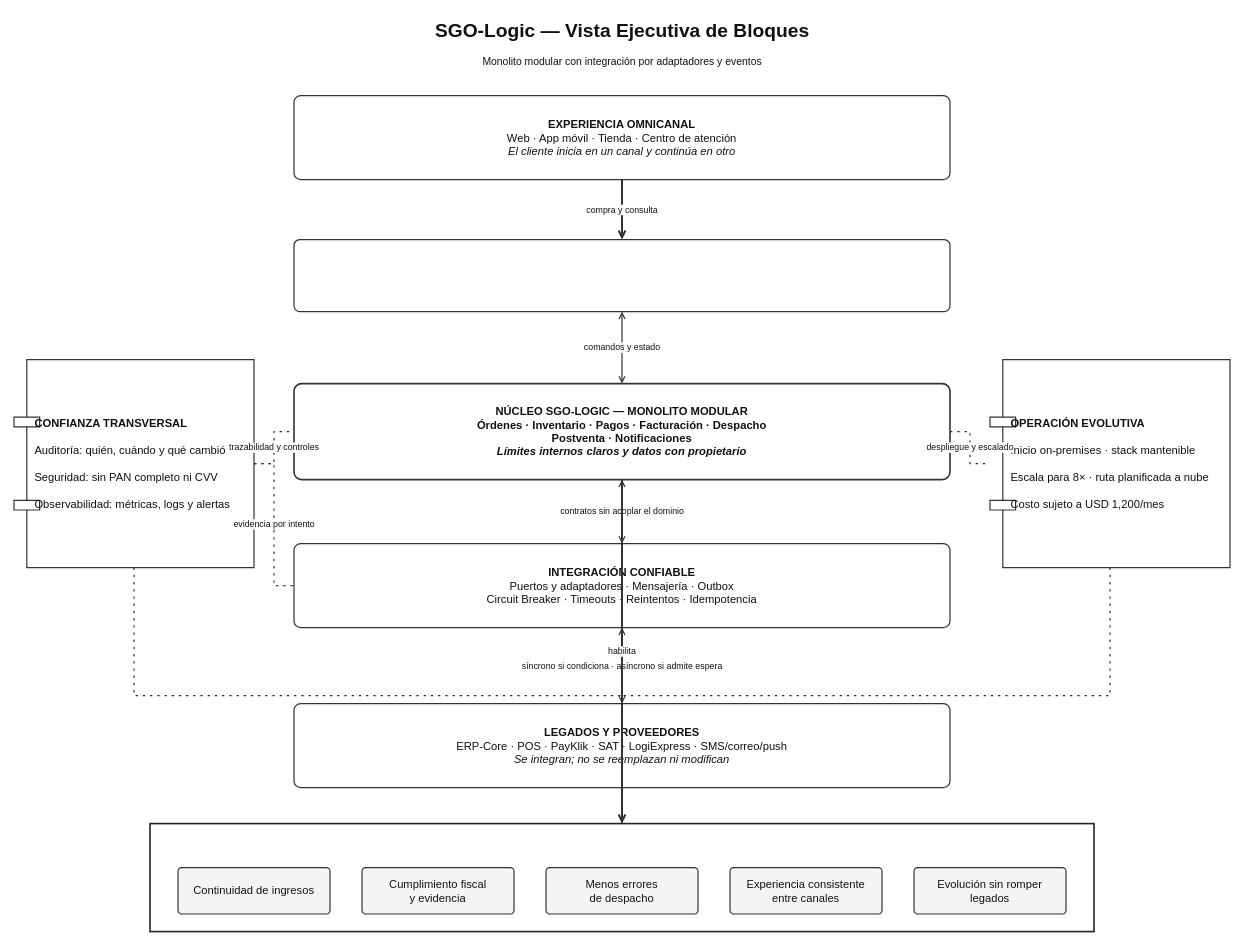
The diagram is 1245 pixels wide and 946 high, and some of its shapes have lost their labels. The box of each missing label's shape, as (x1, y1, x2, y2) in pixels:
ENTRADA Y CONTINUIDAD Identidad de cliente · API omnicanal · Carrito unificado: (293, 239, 950, 312)
VALOR PARA MEGASTORE: (149, 822, 1094, 932)
